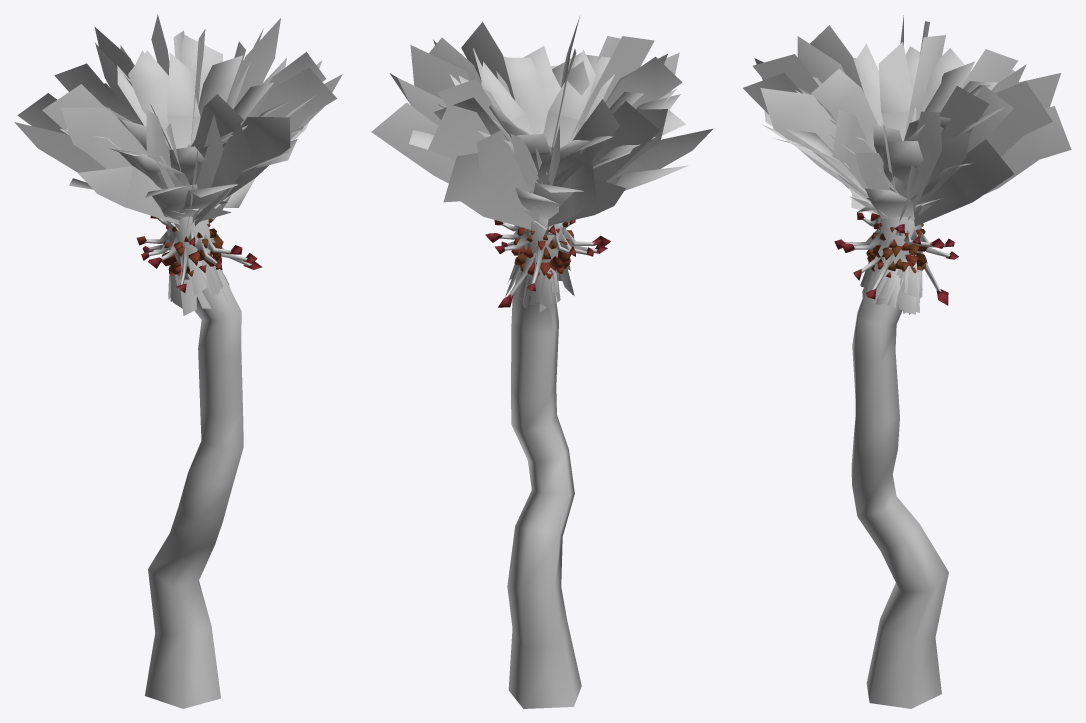
The model's file is Tree6_2_L3.fbx.
The picture shows the model from 3 angles, left to right: view 1: azimuth 30°, elevation 25°; view 2: azimuth 150°, elevation 25°; view 3: azimuth 270°, elevation 25°; orthographic projection.
Parts seen in each view (by area): view 1: polySurface84; view 2: polySurface84; view 3: polySurface84.
Part boxes in pixels (x1,y1,x2,y2): polySurface84: (14,14,342,708); polySurface84: (371,16,713,708); polySurface84: (743,15,1071,708).
Size of the model in its own units: 656 by 1396 by 653.
